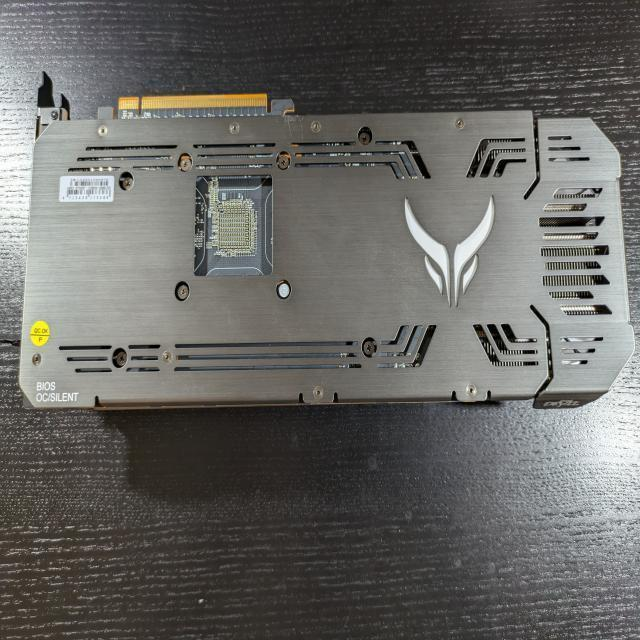GPU: (12, 92, 634, 416)
